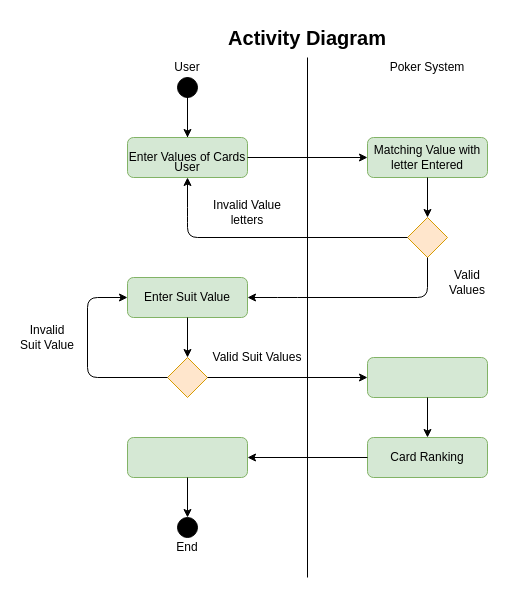
Some shapes in this 514 by 596 pixel diagram are drawn without their labels. The centre of each missing label's shape, as x and y in pixels:
Cards Identification Successful: (187,457)
Total Value of Cards Calculated: (427,377)
